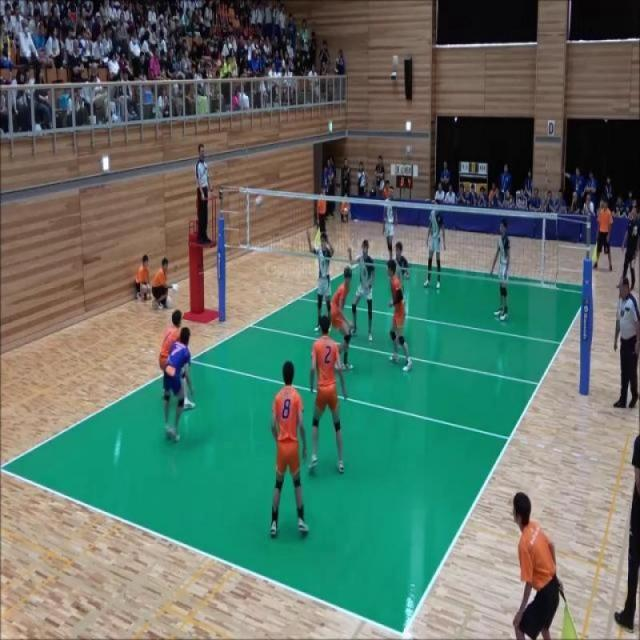volleyball: (253, 195, 264, 214)
